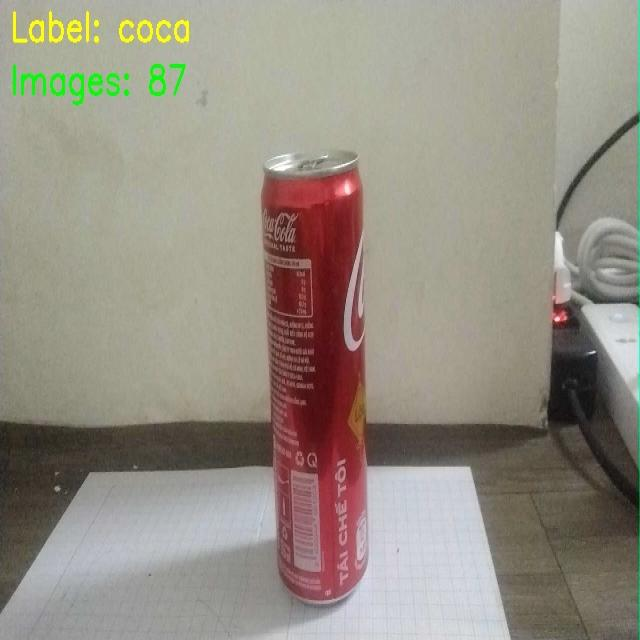Coca: (233, 136, 413, 619)
